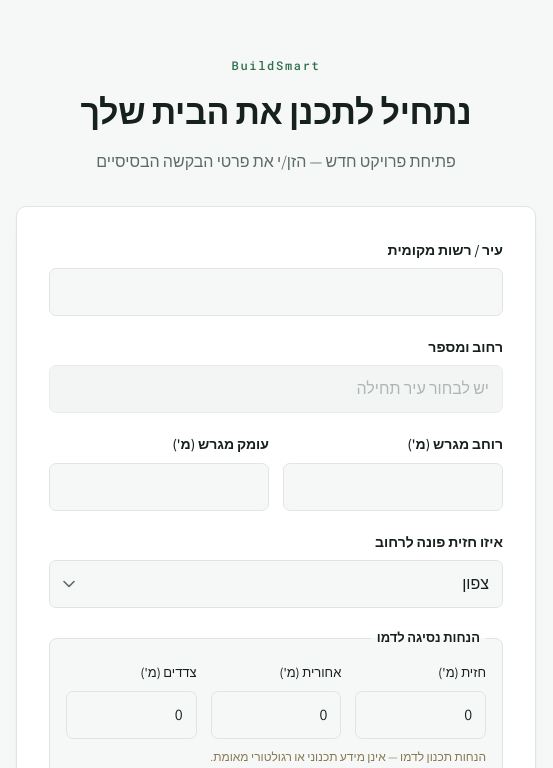
Scenario: one-storey footprint semantics on the form › shows the geometric one-storey capacity for the entered site
This screenshot has width=553, height=768.
Type "תל אביב" into the dropdown labelled "עיר / רשות מקומית" at (276, 292), box [49, 268, 503, 316]
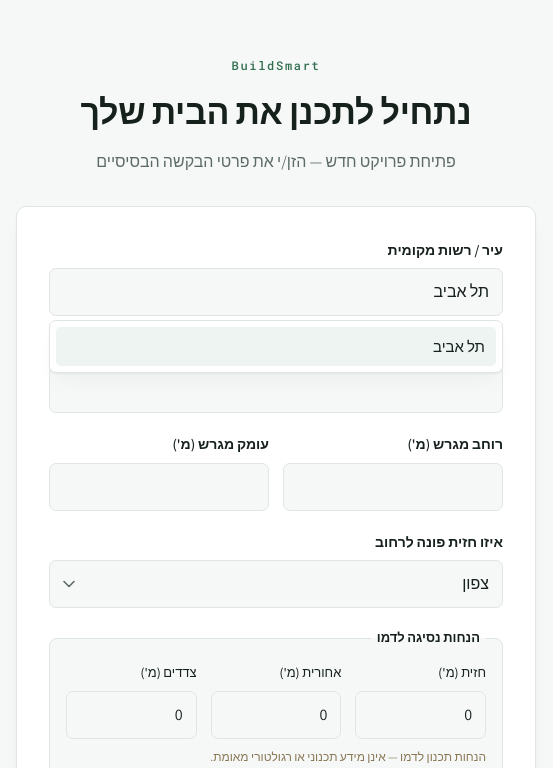
Now the dropdown labelled "רחוב ומספר" is enabled
Type "הרצל 1" into the dropdown labelled "רחוב ומספר" at (276, 389), box [49, 365, 503, 413]
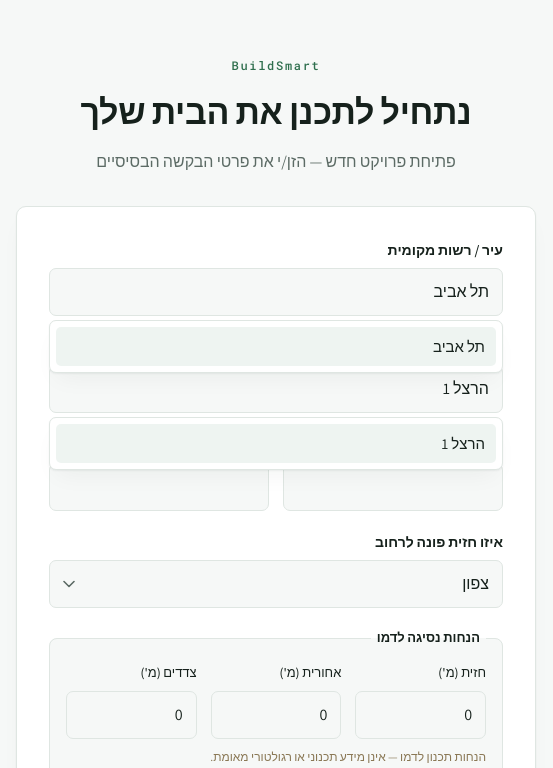
Type "15" into the number field labelled "רוחב מגרש (מ')" at (393, 487), box [283, 463, 503, 511]
Type "20" into the number field labelled "עומק מגרש (מ')" at (159, 487), box [49, 463, 269, 511]
(page scrolled)
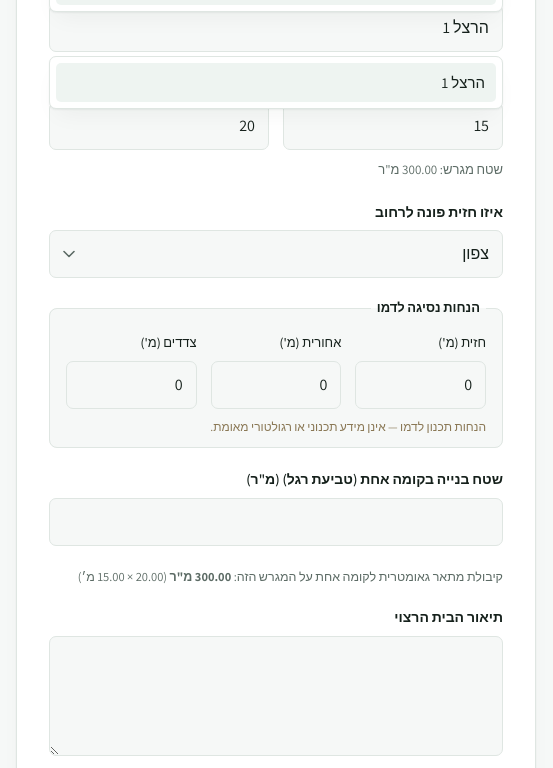
Replace the text in the number field labelled "חזית (מ')" with "5.5" at (421, 384), box [355, 360, 486, 408]
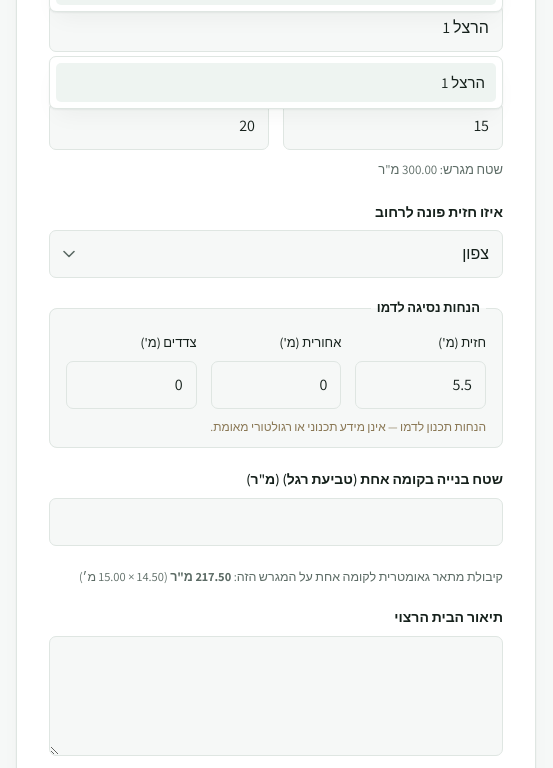
Replace the text in the number field labelled "צדדים (מ')" with "3" at (131, 384), box [66, 360, 197, 408]
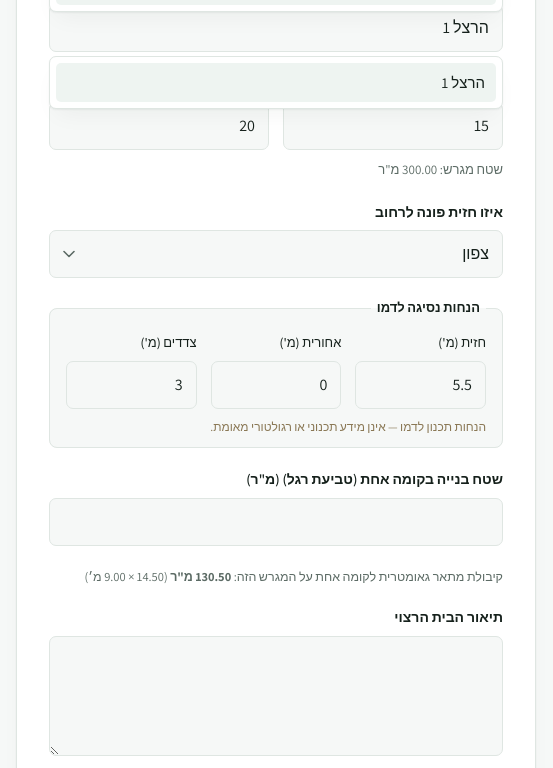
Replace the text in the number field labelled "אחורית (מ')" with "4" at (276, 384), box [211, 360, 341, 408]
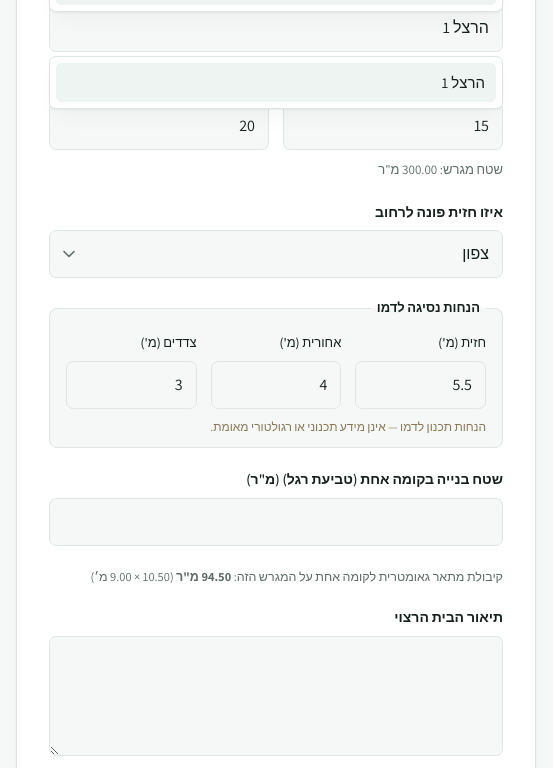
Now the text "קיבולת מתאר גאומטרית לקומה אחת" is shown, box [234, 568, 503, 585]
Now the text "94.50 מ\"ר" is shown, box [176, 568, 231, 585]
Now the text "9.00 × 10.50" is shown, box [110, 568, 170, 586]
